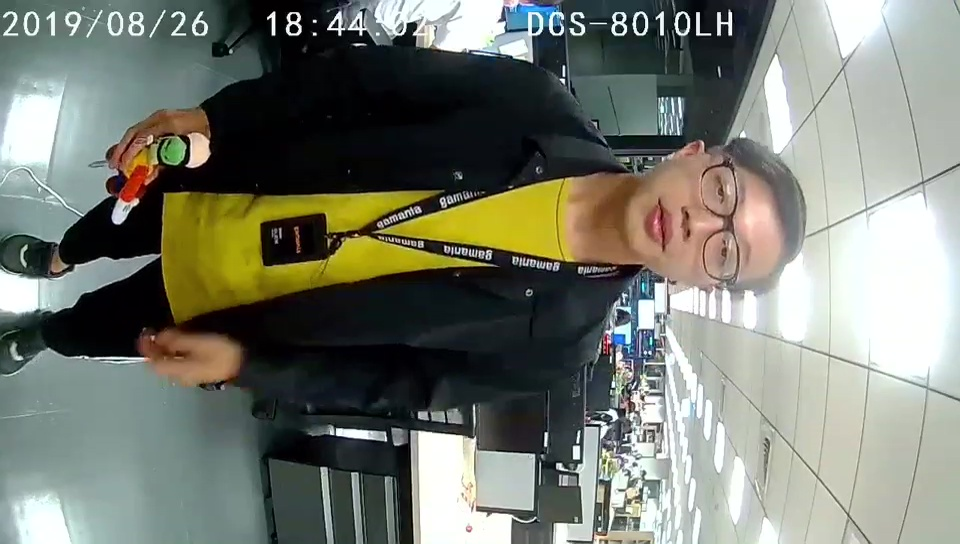goofy: (104, 131, 214, 225)
